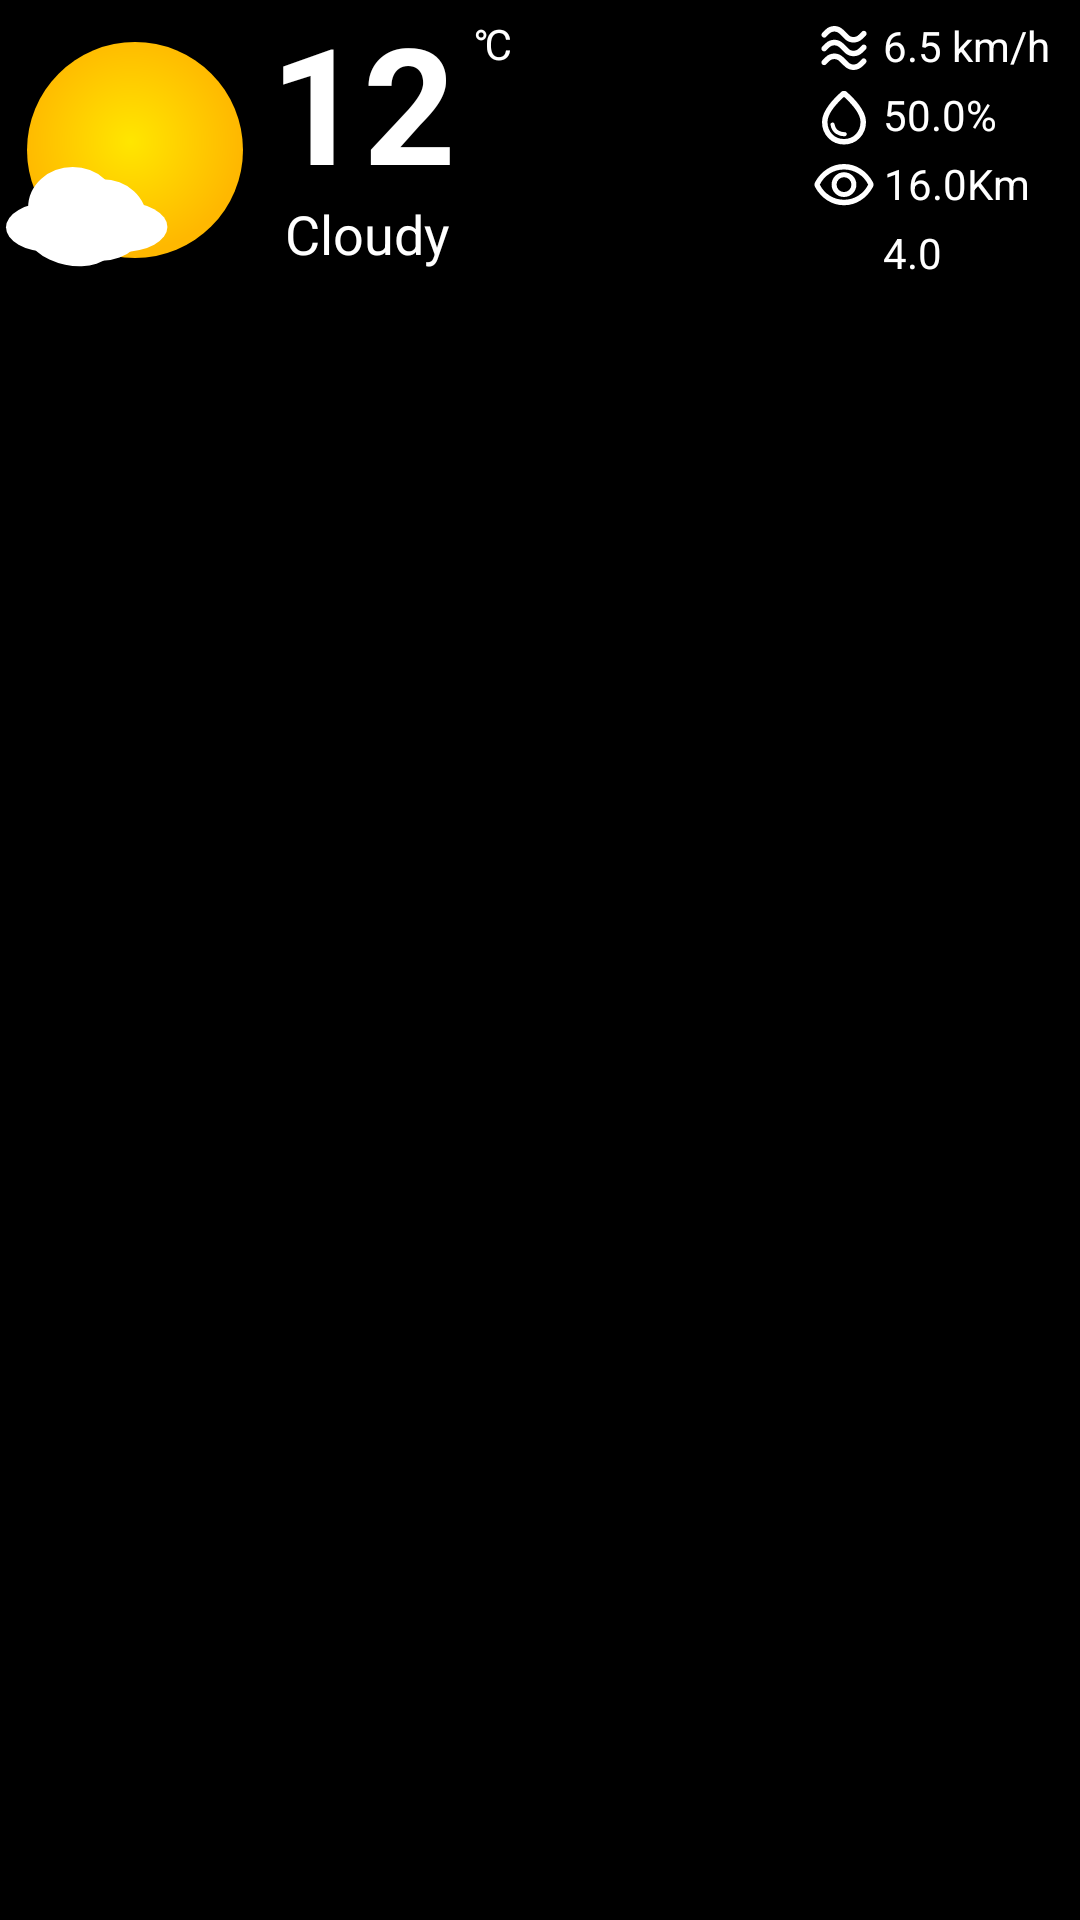

Named icons in this screenshot (1080w x 1920h) and their centers, [x,y]:
air: [844,48]
visibility: [844,185]
water drop: [844,118]
